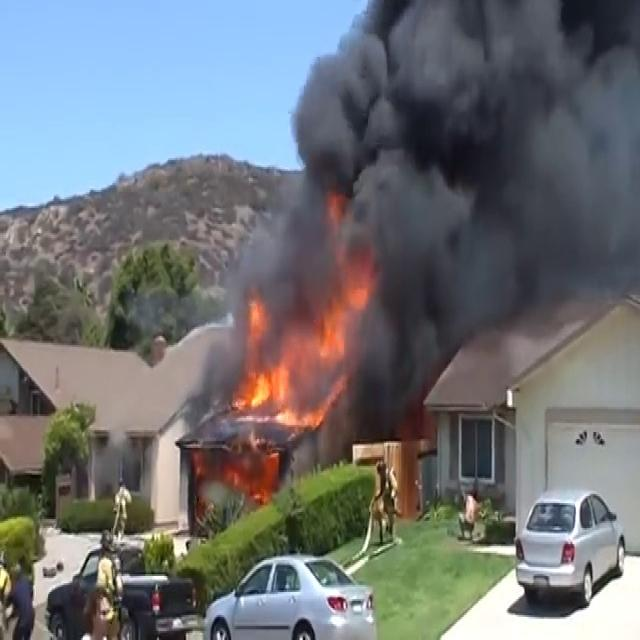Fire: (234, 240, 372, 430)
Smoke: (227, 0, 639, 428)
